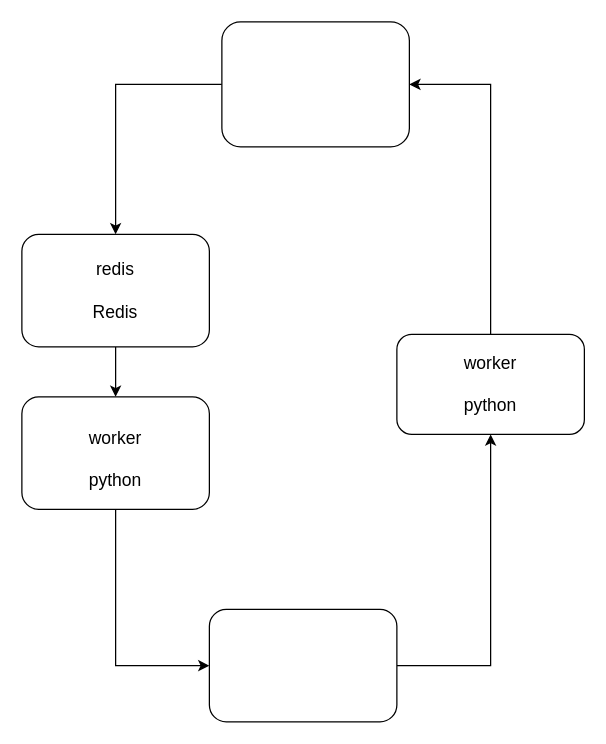
This 606x744 diagram has some shape labels left out. The centre of each missing label's shape, as x and y in pixels:
"database SQL" goes at (x=302, y=665).
"Hotel-booking app python" goes at (x=315, y=84).
